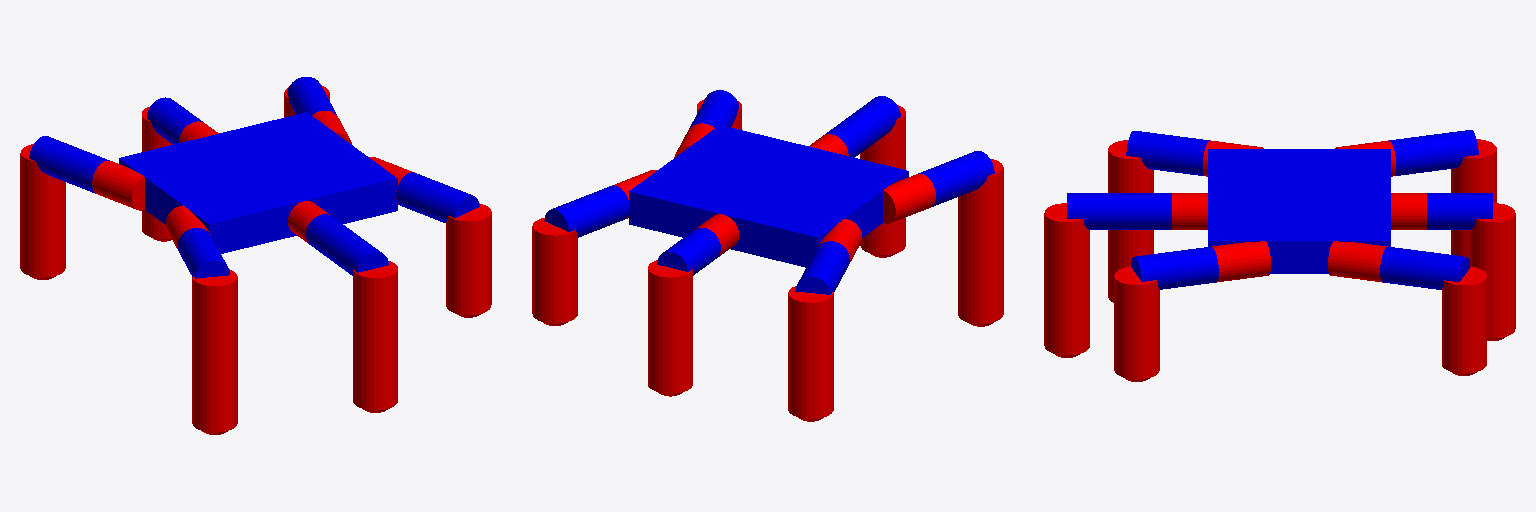
--- Render facts (derived) ---
3 views of the same robot in one strip: view 1: azimuth 30°, elevation 25°; view 2: azimuth 150°, elevation 25°; view 3: azimuth 270°, elevation 25° (orthographic).
Robot: pexod — 19 links, 18 joints (18 revolute); root link base_link; default pose: every joint at zero.
Links seen in each view (by area): view 1: base_link, leg_5_3, leg_4_3, leg_0_3, leg_3_3, leg_4_2, leg_3_2, leg_0_2, leg_0_1, leg_5_2, leg_1_2, leg_2_2 (+3 smaller); view 2: base_link, leg_5_3, leg_0_3, leg_1_3, leg_2_3, leg_4_3, leg_2_2, leg_4_2, leg_5_2, leg_0_2, leg_5_1, leg_1_2 (+3 smaller); view 3: base_link, leg_4_3, leg_3_3, leg_1_3, leg_2_3, leg_4_2, leg_5_3, leg_2_2, leg_0_2, leg_3_2, leg_5_2, leg_0_3 (+5 smaller).
Link boxes in pixels (box(x1,y1,x2,y2)): base_link: box(119, 112, 397, 253); leg_5_3: box(192, 269, 237, 434); leg_4_3: box(353, 261, 397, 412); leg_0_3: box(20, 144, 65, 279); leg_3_3: box(446, 203, 491, 317); leg_4_2: box(306, 214, 388, 275); leg_3_2: box(396, 172, 479, 222); leg_0_2: box(29, 136, 109, 193); leg_0_1: box(92, 161, 144, 210); leg_5_2: box(178, 228, 229, 278); leg_1_2: box(147, 97, 202, 144); leg_2_2: box(287, 77, 336, 114); base_link: box(629, 125, 908, 267); leg_5_3: box(958, 159, 1003, 326); leg_0_3: box(788, 286, 833, 421); leg_1_3: box(648, 260, 692, 396); leg_2_3: box(532, 218, 577, 325); leg_4_3: box(860, 105, 905, 257); leg_2_2: box(544, 185, 629, 237); leg_4_2: box(823, 96, 900, 157); leg_5_2: box(918, 151, 994, 206); leg_0_2: box(795, 241, 849, 294); leg_5_1: box(883, 174, 935, 223); leg_1_2: box(657, 228, 720, 275); base_link: box(1208, 149, 1390, 273); leg_4_3: box(1044, 203, 1089, 357); leg_3_3: box(1114, 266, 1159, 381); leg_1_3: box(1470, 203, 1515, 340); leg_2_3: box(1442, 267, 1486, 375); leg_4_2: box(1067, 193, 1171, 229); leg_5_3: box(1108, 140, 1153, 302); leg_2_2: box(1380, 247, 1469, 289); leg_0_2: box(1389, 130, 1478, 175); leg_3_2: box(1131, 246, 1218, 289); leg_5_2: box(1126, 131, 1209, 175); leg_0_3: box(1451, 139, 1496, 259).
Bounding box of the posed robot: 0.3802 × 0.517 × 0.2109 m (x, y, z).
Geometry: primitives only (box / cylinder / sphere), no mesh files.

robot.urdf — pexod:
<?xml version="1.0" ?>
<!-- =================================================================================== -->
<!-- |    This document was autogenerated by xacro from pexod.xacro                    | -->
<!-- |    EDITING THIS FILE BY HAND IS NOT RECOMMENDED                                 | -->
<!-- =================================================================================== -->
<robot name="pexod" xmlns:xacro="http://www.ros.org/wiki/xacro">
  <!-- <xacro:include filename="$(find pexod_description)/urdf/pexod_control.xacro" /> -->
  <!-- MATERIALS -->
  <material name="Blue">
    <color rgba="0 0 1 1"/>
  </material>
  <material name="Red">
    <color rgba="1 0 0 1"/>
  </material>
  <material name="Green">
    <color rgba="0 1 0 1"/>
  </material>
  <material name="Yellow">
    <color rgba="1 1 0 1"/>
  </material>
  <material name="LightGrey">
    <color rgba="0.6 0.6 0.6 1.0"/>
  </material>
  <!-- END OF MATERIALS -->
  <!-- XACRO MACROS FOR VISUALS AND COLLISIONS -->
  <!-- END OF XACRO MACROS -->
  <!-- TORSO -->
  <link name="base_link">
    <visual>
      <origin rpy="0 0 0" xyz="0 0 0"/>
      <geometry>
        <box size="0.24 0.2 0.04"/>
      </geometry>
      <material name="Blue"/>
    </visual>
    <collision>
      <origin rpy="0 0 0" xyz="0 0 0"/>
      <geometry>
        <box size="0.24 0.2 0.04"/>
      </geometry>
    </collision>
    <inertial>
      <!-- CENTER OF MASS -->
      <origin rpy="0 0 0" xyz="0 0 0"/>
      <mass value="1.031"/>
      <!-- box inertia: 1/12*m(y^2+z^2), ... -->
      <inertia ixx="0.00357413333333" ixy="0" ixz="0" iyy="0.00508626666667" iyz="0" izz="0.00838546666667"/>
    </inertial>
  </link>
  <!-- XACRO MACRO FOR LEGS LINKS/JOINTS -->
  <!-- END OF LEG LINKS/JOINTS -->
  <joint name="body_leg_2" type="revolute">
    <parent link="base_link"/>
    <child link="leg_2_1"/>
    <limit effort="30.0" lower="-1.57079632679" upper="1.57079632679" velocity="7.0"/>
    <origin rpy="0 0 -0.3" xyz="0.11 0.04 0"/>
    <!-- <xacro:if value="${index == 5 or index == 4 or index == 3}">
                <axis xyz="0 0 1"/>
            </xacro:if>
            <xacro:if value="${index == 2 or index == 1 or index == 0}"> -->
    <axis xyz="0 0 1"/>
    <!-- </xacro:if> -->
    <dynamics damping="0.0"/>
  </joint>
  <link name="leg_2_1">
    <visual>
      <origin rpy="1.57079632679 0 0" xyz="0.01 0.03 0"/>
      <geometry>
        <cylinder length="0.06" radius="0.02"/>
      </geometry>
      <material name="Red"/>
    </visual>
    <collision>
      <origin rpy="1.57079632679 0 0" xyz="0.01 0.03 0"/>
      <geometry>
        <box size="0.02 0.02 0.06"/>
      </geometry>
    </collision>
    <inertial>
      <!-- CENTER OF MASS -->
      <origin rpy="1.57079632679 0 0" xyz="0.01 0.03 0"/>
      <mass value="0.02"/>
      <!-- box inertia: 1/12*m(y^2+z^2), ... -->
      <inertia ixx="6.66666666667e-06" ixy="0" ixz="0" iyy="6.66666666667e-06" iyz="0" izz="1.33333333333e-06"/>
    </inertial>
  </link>
  <joint name="leg_2_1_2" type="revolute">
    <parent link="leg_2_1"/>
    <child link="leg_2_2"/>
    <limit effort="30.0" lower="-0.78539816339" upper="0.78539816339" velocity="7.0"/>
    <origin rpy="0 0 0" xyz="0 0.06 0"/>
    <axis xyz="1 0 0"/>
    <dynamics damping="0.0"/>
  </joint>
  <link name="leg_2_2">
    <visual>
      <origin rpy="1.57079632679 0 0" xyz="0.01 0.045675434795 0"/>
      <geometry>
        <cylinder length="0.0913508695899" radius="0.02"/>
      </geometry>
      <material name="Blue"/>
    </visual>
    <collision>
      <origin rpy="1.57079632679 0 0" xyz="0.01 0.045675434795 0"/>
      <geometry>
        <box size="0.02 0.02 0.0913508695899"/>
      </geometry>
    </collision>
    <inertial>
      <!-- CENTER OF MASS -->
      <origin rpy="1.57079632679 0 0" xyz="0.01 0.045675434795 0"/>
      <mass value="0.184"/>
      <!-- box inertia: 1/12*m(y^2+z^2), ... -->
      <inertia ixx="0.000134089714414" ixy="0" ixz="0" iyy="0.000134089714414" iyz="0" izz="1.22666666667e-05"/>
    </inertial>
  </link>
  <joint name="leg_2_2_3" type="revolute">
    <parent link="leg_2_2"/>
    <child link="leg_2_3"/>
    <limit effort="30.0" lower="-0.78539816339" upper="0.78539816339" velocity="7.0"/>
    <origin rpy="-1.57079632679 0 0" xyz="0 0.0913508695899 0"/>
    <axis xyz="-1 0 0"/>
    <dynamics damping="0.0"/>
  </joint>
  <link name="leg_2_3">
    <visual>
      <origin rpy="1.57079632679 0 0" xyz="0.0125 0.0533345290635 0"/>
      <geometry>
        <cylinder length="0.106669058127" radius="0.025"/>
      </geometry>
      <material name="Red"/>
    </visual>
    <visual>
      <origin rpy="1.57079632679 0 0" xyz="0.0125 0.094169058127 0"/>
      <geometry>
        <sphere radius="0.025"/>
      </geometry>
      <material name="Red"/>
    </visual>
    <collision>
      <origin rpy="1.57079632679 0 0" xyz="0.0125 0.0533345290635 0"/>
      <geometry>
        <box size="0.025 0.025 0.106669058127"/>
      </geometry>
    </collision>
    <collision>
      <origin rpy="1.57079632679 0 0" xyz="0.0125 0.094169058127 0"/>
      <geometry>
        <sphere radius="0.025"/>
      </geometry>
      <material name="Red"/>
    </collision>
    <inertial>
      <!-- CENTER OF MASS -->
      <origin rpy="1.57079632679 0 0" xyz="0.0125 0.0533345290635 0"/>
      <mass value="0.04"/>
      <!-- box inertia: 1/12*m(y^2+z^2), ... -->
      <inertia ixx="4.00109598723e-05" ixy="0" ixz="0" iyy="4.00109598723e-05" iyz="0" izz="4.16666666667e-06"/>
    </inertial>
  </link>
  <joint name="body_leg_3" type="revolute">
    <parent link="base_link"/>
    <child link="leg_3_1"/>
    <limit effort="30.0" lower="-1.57079632679" upper="1.57079632679" velocity="7.0"/>
    <origin rpy="0 0 0.3" xyz="0.11 -0.04 0"/>
    <!-- <xacro:if value="${index == 5 or index == 4 or index == 3}">
                <axis xyz="0 0 1"/>
            </xacro:if>
            <xacro:if value="${index == 2 or index == 1 or index == 0}"> -->
    <axis xyz="0 0 1"/>
    <!-- </xacro:if> -->
    <dynamics damping="0.0"/>
  </joint>
  <link name="leg_3_1">
    <visual>
      <origin rpy="1.57079632679 0 0" xyz="0.01 -0.03 0"/>
      <geometry>
        <cylinder length="0.06" radius="0.02"/>
      </geometry>
      <material name="Red"/>
    </visual>
    <collision>
      <origin rpy="1.57079632679 0 0" xyz="0.01 -0.03 0"/>
      <geometry>
        <box size="0.02 0.02 0.06"/>
      </geometry>
    </collision>
    <inertial>
      <!-- CENTER OF MASS -->
      <origin rpy="1.57079632679 0 0" xyz="0.01 -0.03 0"/>
      <mass value="0.02"/>
      <!-- box inertia: 1/12*m(y^2+z^2), ... -->
      <inertia ixx="6.66666666667e-06" ixy="0" ixz="0" iyy="6.66666666667e-06" iyz="0" izz="1.33333333333e-06"/>
    </inertial>
  </link>
  <joint name="leg_3_1_2" type="revolute">
    <parent link="leg_3_1"/>
    <child link="leg_3_2"/>
    <limit effort="30.0" lower="-0.78539816339" upper="0.78539816339" velocity="7.0"/>
    <origin rpy="0 0 0" xyz="0 -0.06 0"/>
    <axis xyz="-1 0 0"/>
    <dynamics damping="0.0"/>
  </joint>
  <link name="leg_3_2">
    <visual>
      <origin rpy="1.57079632679 0 0" xyz="0.01 -0.0443012966367 0"/>
      <geometry>
        <cylinder length="0.0886025932734" radius="0.02"/>
      </geometry>
      <material name="Blue"/>
    </visual>
    <collision>
      <origin rpy="1.57079632679 0 0" xyz="0.01 -0.0443012966367 0"/>
      <geometry>
        <box size="0.02 0.02 0.0886025932734"/>
      </geometry>
    </collision>
    <inertial>
      <!-- CENTER OF MASS -->
      <origin rpy="1.57079632679 0 0" xyz="0.01 -0.0443012966367 0"/>
      <mass value="0.184"/>
      <!-- box inertia: 1/12*m(y^2+z^2), ... -->
      <inertia ixx="0.000126506432866" ixy="0" ixz="0" iyy="0.000126506432866" iyz="0" izz="1.22666666667e-05"/>
    </inertial>
  </link>
  <joint name="leg_3_2_3" type="revolute">
    <parent link="leg_3_2"/>
    <child link="leg_3_3"/>
    <limit effort="30.0" lower="-0.78539816339" upper="0.78539816339" velocity="7.0"/>
    <origin rpy="1.57079632679 0 0" xyz="0 -0.0886025932734 0"/>
    <axis xyz="1 0 0"/>
    <dynamics damping="0.0"/>
  </joint>
  <link name="leg_3_3">
    <visual>
      <origin rpy="1.57079632679 0 0" xyz="0.0125 -0.057151200116 0"/>
      <geometry>
        <cylinder length="0.114302400232" radius="0.025"/>
      </geometry>
      <material name="Red"/>
    </visual>
    <visual>
      <origin rpy="1.57079632679 0 0" xyz="0.0125 -0.101802400232 0"/>
      <geometry>
        <sphere radius="0.025"/>
      </geometry>
      <material name="Red"/>
    </visual>
    <collision>
      <origin rpy="1.57079632679 0 0" xyz="0.0125 -0.057151200116 0"/>
      <geometry>
        <box size="0.025 0.025 0.114302400232"/>
      </geometry>
    </collision>
    <collision>
      <origin rpy="1.57079632679 0 0" xyz="0.0125 -0.101802400232 0"/>
      <geometry>
        <sphere radius="0.025"/>
      </geometry>
      <material name="Red"/>
    </collision>
    <inertial>
      <!-- CENTER OF MASS -->
      <origin rpy="1.57079632679 0 0" xyz="0.0125 -0.057151200116 0"/>
      <mass value="0.04"/>
      <!-- box inertia: 1/12*m(y^2+z^2), ... -->
      <inertia ixx="4.56334623293e-05" ixy="0" ixz="0" iyy="4.56334623293e-05" iyz="0" izz="4.16666666667e-06"/>
    </inertial>
  </link>
  <joint name="body_leg_0" type="revolute">
    <parent link="base_link"/>
    <child link="leg_0_1"/>
    <limit effort="30.0" lower="-1.57079632679" upper="1.57079632679" velocity="7.0"/>
    <origin rpy="0 0 0.3" xyz="-0.13 0.04 0"/>
    <!-- <xacro:if value="${index == 5 or index == 4 or index == 3}">
                <axis xyz="0 0 1"/>
            </xacro:if>
            <xacro:if value="${index == 2 or index == 1 or index == 0}"> -->
    <axis xyz="0 0 1"/>
    <!-- </xacro:if> -->
    <dynamics damping="0.0"/>
  </joint>
  <link name="leg_0_1">
    <visual>
      <origin rpy="1.57079632679 0 0" xyz="0.01 0.03 0"/>
      <geometry>
        <cylinder length="0.06" radius="0.02"/>
      </geometry>
      <material name="Red"/>
    </visual>
    <collision>
      <origin rpy="1.57079632679 0 0" xyz="0.01 0.03 0"/>
      <geometry>
        <box size="0.02 0.02 0.06"/>
      </geometry>
    </collision>
    <inertial>
      <!-- CENTER OF MASS -->
      <origin rpy="1.57079632679 0 0" xyz="0.01 0.03 0"/>
      <mass value="0.02"/>
      <!-- box inertia: 1/12*m(y^2+z^2), ... -->
      <inertia ixx="6.66666666667e-06" ixy="0" ixz="0" iyy="6.66666666667e-06" iyz="0" izz="1.33333333333e-06"/>
    </inertial>
  </link>
  <joint name="leg_0_1_2" type="revolute">
    <parent link="leg_0_1"/>
    <child link="leg_0_2"/>
    <limit effort="30.0" lower="-0.78539816339" upper="0.78539816339" velocity="7.0"/>
    <origin rpy="0 0 0" xyz="0 0.06 0"/>
    <axis xyz="1 0 0"/>
    <dynamics damping="0.0"/>
  </joint>
  <link name="leg_0_2">
    <visual>
      <origin rpy="1.57079632679 0 0" xyz="0.01 0.0473555068962 0"/>
      <geometry>
        <cylinder length="0.0947110137924" radius="0.02"/>
      </geometry>
      <material name="Blue"/>
    </visual>
    <collision>
      <origin rpy="1.57079632679 0 0" xyz="0.01 0.0473555068962 0"/>
      <geometry>
        <box size="0.02 0.02 0.0947110137924"/>
      </geometry>
    </collision>
    <inertial>
      <!-- CENTER OF MASS -->
      <origin rpy="1.57079632679 0 0" xyz="0.01 0.0473555068962 0"/>
      <mass value="0.184"/>
      <!-- box inertia: 1/12*m(y^2+z^2), ... -->
      <inertia ixx="0.000143676034048" ixy="0" ixz="0" iyy="0.000143676034048" iyz="0" izz="1.22666666667e-05"/>
    </inertial>
  </link>
  <joint name="leg_0_2_3" type="revolute">
    <parent link="leg_0_2"/>
    <child link="leg_0_3"/>
    <limit effort="30.0" lower="-0.78539816339" upper="0.78539816339" velocity="7.0"/>
    <origin rpy="-1.57079632679 0 0" xyz="0 0.0947110137924 0"/>
    <axis xyz="-1 0 0"/>
    <dynamics damping="0.0"/>
  </joint>
  <link name="leg_0_3">
    <visual>
      <origin rpy="1.57079632679 0 0" xyz="0.0125 0.070501041322 0"/>
      <geometry>
        <cylinder length="0.141002082644" radius="0.025"/>
      </geometry>
      <material name="Red"/>
    </visual>
    <visual>
      <origin rpy="1.57079632679 0 0" xyz="0.0125 0.128502082644 0"/>
      <geometry>
        <sphere radius="0.025"/>
      </geometry>
      <material name="Red"/>
    </visual>
    <collision>
      <origin rpy="1.57079632679 0 0" xyz="0.0125 0.070501041322 0"/>
      <geometry>
        <box size="0.025 0.025 0.141002082644"/>
      </geometry>
    </collision>
    <collision>
      <origin rpy="1.57079632679 0 0" xyz="0.0125 0.128502082644 0"/>
      <geometry>
        <sphere radius="0.025"/>
      </geometry>
      <material name="Red"/>
    </collision>
    <inertial>
      <!-- CENTER OF MASS -->
      <origin rpy="1.57079632679 0 0" xyz="0.0125 0.070501041322 0"/>
      <mass value="0.04"/>
      <!-- box inertia: 1/12*m(y^2+z^2), ... -->
      <inertia ixx="6.83552910332e-05" ixy="0" ixz="0" iyy="6.83552910332e-05" iyz="0" izz="4.16666666667e-06"/>
    </inertial>
  </link>
  <joint name="body_leg_5" type="revolute">
    <parent link="base_link"/>
    <child link="leg_5_1"/>
    <limit effort="30.0" lower="-1.57079632679" upper="1.57079632679" velocity="7.0"/>
    <origin rpy="0 0 -0.3" xyz="-0.13 -0.04 0"/>
    <!-- <xacro:if value="${index == 5 or index == 4 or index == 3}">
                <axis xyz="0 0 1"/>
            </xacro:if>
            <xacro:if value="${index == 2 or index == 1 or index == 0}"> -->
    <axis xyz="0 0 1"/>
    <!-- </xacro:if> -->
    <dynamics damping="0.0"/>
  </joint>
  <link name="leg_5_1">
    <visual>
      <origin rpy="1.57079632679 0 0" xyz="0.01 -0.03 0"/>
      <geometry>
        <cylinder length="0.06" radius="0.02"/>
      </geometry>
      <material name="Red"/>
    </visual>
    <collision>
      <origin rpy="1.57079632679 0 0" xyz="0.01 -0.03 0"/>
      <geometry>
        <box size="0.02 0.02 0.06"/>
      </geometry>
    </collision>
    <inertial>
      <!-- CENTER OF MASS -->
      <origin rpy="1.57079632679 0 0" xyz="0.01 -0.03 0"/>
      <mass value="0.02"/>
      <!-- box inertia: 1/12*m(y^2+z^2), ... -->
      <inertia ixx="6.66666666667e-06" ixy="0" ixz="0" iyy="6.66666666667e-06" iyz="0" izz="1.33333333333e-06"/>
    </inertial>
  </link>
  <joint name="leg_5_1_2" type="revolute">
    <parent link="leg_5_1"/>
    <child link="leg_5_2"/>
    <limit effort="30.0" lower="-0.78539816339" upper="0.78539816339" velocity="7.0"/>
    <origin rpy="0 0 0" xyz="0 -0.06 0"/>
    <axis xyz="-1 0 0"/>
    <dynamics damping="0.0"/>
  </joint>
  <link name="leg_5_2">
    <visual>
      <origin rpy="1.57079632679 0 0" xyz="0.01 -0.0438942045047 0"/>
      <geometry>
        <cylinder length="0.0877884090094" radius="0.02"/>
      </geometry>
      <material name="Blue"/>
    </visual>
    <collision>
      <origin rpy="1.57079632679 0 0" xyz="0.01 -0.0438942045047 0"/>
      <geometry>
        <box size="0.02 0.02 0.0877884090094"/>
      </geometry>
    </collision>
    <inertial>
      <!-- CENTER OF MASS -->
      <origin rpy="1.57079632679 0 0" xyz="0.01 -0.0438942045047 0"/>
      <mass value="0.184"/>
      <!-- box inertia: 1/12*m(y^2+z^2), ... -->
      <inertia ixx="0.000124304339598" ixy="0" ixz="0" iyy="0.000124304339598" iyz="0" izz="1.22666666667e-05"/>
    </inertial>
  </link>
  <joint name="leg_5_2_3" type="revolute">
    <parent link="leg_5_2"/>
    <child link="leg_5_3"/>
    <limit effort="30.0" lower="-0.78539816339" upper="0.78539816339" velocity="7.0"/>
    <origin rpy="1.57079632679 0 0" xyz="0 -0.0877884090094 0"/>
    <axis xyz="1 0 0"/>
    <dynamics damping="0.0"/>
  </joint>
  <link name="leg_5_3">
    <visual>
      <origin rpy="1.57079632679 0 0" xyz="0.0125 -0.0891869146165 0"/>
      <geometry>
        <cylinder length="0.178373829233" radius="0.025"/>
      </geometry>
      <material name="Red"/>
    </visual>
    <visual>
      <origin rpy="1.57079632679 0 0" xyz="0.0125 -0.165873829233 0"/>
      <geometry>
        <sphere radius="0.025"/>
      </geometry>
      <material name="Red"/>
    </visual>
    <collision>
      <origin rpy="1.57079632679 0 0" xyz="0.0125 -0.0891869146165 0"/>
      <geometry>
        <box size="0.025 0.025 0.178373829233"/>
      </geometry>
    </collision>
    <collision>
      <origin rpy="1.57079632679 0 0" xyz="0.0125 -0.165873829233 0"/>
      <geometry>
        <sphere radius="0.025"/>
      </geometry>
      <material name="Red"/>
    </collision>
    <inertial>
      <!-- CENTER OF MASS -->
      <origin rpy="1.57079632679 0 0" xyz="0.0125 -0.0891869146165 0"/>
      <mass value="0.04"/>
      <!-- box inertia: 1/12*m(y^2+z^2), ... -->
      <inertia ixx="0.000108140743184" ixy="0" ixz="0" iyy="0.000108140743184" iyz="0" izz="4.16666666667e-06"/>
    </inertial>
  </link>
  <joint name="body_leg_1" type="revolute">
    <parent link="base_link"/>
    <child link="leg_1_1"/>
    <limit effort="30.0" lower="-1.57079632679" upper="1.57079632679" velocity="7.0"/>
    <origin rpy="0 0 0" xyz="-0.01 0.08 0"/>
    <!-- <xacro:if value="${index == 5 or index == 4 or index == 3}">
                <axis xyz="0 0 1"/>
            </xacro:if>
            <xacro:if value="${index == 2 or index == 1 or index == 0}"> -->
    <axis xyz="0 0 1"/>
    <!-- </xacro:if> -->
    <dynamics damping="0.0"/>
  </joint>
  <link name="leg_1_1">
    <visual>
      <origin rpy="1.57079632679 0 0" xyz="0.01 0.03 0"/>
      <geometry>
        <cylinder length="0.06" radius="0.02"/>
      </geometry>
      <material name="Red"/>
    </visual>
    <collision>
      <origin rpy="1.57079632679 0 0" xyz="0.01 0.03 0"/>
      <geometry>
        <box size="0.02 0.02 0.06"/>
      </geometry>
    </collision>
    <inertial>
      <!-- CENTER OF MASS -->
      <origin rpy="1.57079632679 0 0" xyz="0.01 0.03 0"/>
      <mass value="0.02"/>
      <!-- box inertia: 1/12*m(y^2+z^2), ... -->
      <inertia ixx="6.66666666667e-06" ixy="0" ixz="0" iyy="6.66666666667e-06" iyz="0" izz="1.33333333333e-06"/>
    </inertial>
  </link>
  <joint name="leg_1_1_2" type="revolute">
    <parent link="leg_1_1"/>
    <child link="leg_1_2"/>
    <limit effort="30.0" lower="-0.78539816339" upper="0.78539816339" velocity="7.0"/>
    <origin rpy="0 0 0" xyz="0 0.06 0"/>
    <axis xyz="1 0 0"/>
    <dynamics damping="0.0"/>
  </joint>
  <link name="leg_1_2">
    <visual>
      <origin rpy="1.57079632679 0 0" xyz="0.01 0.0360324965887 0"/>
      <geometry>
        <cylinder length="0.0720649931773" radius="0.02"/>
      </geometry>
      <material name="Blue"/>
    </visual>
    <collision>
      <origin rpy="1.57079632679 0 0" xyz="0.01 0.0360324965887 0"/>
      <geometry>
        <box size="0.02 0.02 0.0720649931773"/>
      </geometry>
    </collision>
    <inertial>
      <!-- CENTER OF MASS -->
      <origin rpy="1.57079632679 0 0" xyz="0.01 0.0360324965887 0"/>
      <mass value="0.184"/>
      <!-- box inertia: 1/12*m(y^2+z^2), ... -->
      <inertia ixx="8.57649030385e-05" ixy="0" ixz="0" iyy="8.57649030385e-05" iyz="0" izz="1.22666666667e-05"/>
    </inertial>
  </link>
  <joint name="leg_1_2_3" type="revolute">
    <parent link="leg_1_2"/>
    <child link="leg_1_3"/>
    <limit effort="30.0" lower="-0.78539816339" upper="0.78539816339" velocity="7.0"/>
    <origin rpy="-1.57079632679 0 0" xyz="0 0.0720649931773 0"/>
    <axis xyz="-1 0 0"/>
    <dynamics damping="0.0"/>
  </joint>
  <link name="leg_1_3">
    <visual>
      <origin rpy="1.57079632679 0 0" xyz="0.0125 0.0704041997135 0"/>
      <geometry>
        <cylinder length="0.140808399427" radius="0.025"/>
      </geometry>
      <material name="Red"/>
    </visual>
    <visual>
      <origin rpy="1.57079632679 0 0" xyz="0.0125 0.128308399427 0"/>
      <geometry>
        <sphere radius="0.025"/>
      </geometry>
      <material name="Red"/>
    </visual>
    <collision>
      <origin rpy="1.57079632679 0 0" xyz="0.0125 0.0704041997135 0"/>
      <geometry>
        <box size="0.025 0.025 0.140808399427"/>
      </geometry>
    </collision>
    <collision>
      <origin rpy="1.57079632679 0 0" xyz="0.0125 0.128308399427 0"/>
      <geometry>
        <sphere radius="0.025"/>
      </geometry>
      <material name="Red"/>
    </collision>
    <inertial>
      <!-- CENTER OF MASS -->
      <origin rpy="1.57079632679 0 0" xyz="0.0125 0.0704041997135 0"/>
      <mass value="0.04"/>
      <!-- box inertia: 1/12*m(y^2+z^2), ... -->
      <inertia ixx="6.8173351164e-05" ixy="0" ixz="0" iyy="6.8173351164e-05" iyz="0" izz="4.16666666667e-06"/>
    </inertial>
  </link>
  <joint name="body_leg_4" type="revolute">
    <parent link="base_link"/>
    <child link="leg_4_1"/>
    <limit effort="30.0" lower="-1.57079632679" upper="1.57079632679" velocity="7.0"/>
    <origin rpy="0 0 0" xyz="-0.01 -0.08 0"/>
    <!-- <xacro:if value="${index == 5 or index == 4 or index == 3}">
                <axis xyz="0 0 1"/>
            </xacro:if>
            <xacro:if value="${index == 2 or index == 1 or index == 0}"> -->
    <axis xyz="0 0 1"/>
    <!-- </xacro:if> -->
    <dynamics damping="0.0"/>
  </joint>
  <link name="leg_4_1">
    <visual>
      <origin rpy="1.57079632679 0 0" xyz="0.01 -0.03 0"/>
      <geometry>
        <cylinder length="0.06" radius="0.02"/>
      </geometry>
      <material name="Red"/>
    </visual>
    <collision>
      <origin rpy="1.57079632679 0 0" xyz="0.01 -0.03 0"/>
      <geometry>
        <box size="0.02 0.02 0.06"/>
      </geometry>
    </collision>
    <inertial>
      <!-- CENTER OF MASS -->
      <origin rpy="1.57079632679 0 0" xyz="0.01 -0.03 0"/>
      <mass value="0.02"/>
      <!-- box inertia: 1/12*m(y^2+z^2), ... -->
      <inertia ixx="6.66666666667e-06" ixy="0" ixz="0" iyy="6.66666666667e-06" iyz="0" izz="1.33333333333e-06"/>
    </inertial>
  </link>
  <joint name="leg_4_1_2" type="revolute">
    <parent link="leg_4_1"/>
    <child link="leg_4_2"/>
    <limit effort="30.0" lower="-0.78539816339" upper="0.78539816339" velocity="7.0"/>
    <origin rpy="0 0 0" xyz="0 -0.06 0"/>
    <axis xyz="-1 0 0"/>
    <dynamics damping="0.0"/>
  </joint>
  <link name="leg_4_2">
    <visual>
      <origin rpy="1.57079632679 0 0" xyz="0.01 -0.057472820102 0"/>
      <geometry>
        <cylinder length="0.114945640204" radius="0.02"/>
      </geometry>
      <material name="Blue"/>
    </visual>
    <collision>
      <origin rpy="1.57079632679 0 0" xyz="0.01 -0.057472820102 0"/>
      <geometry>
        <box size="0.02 0.02 0.114945640204"/>
      </geometry>
    </collision>
    <inertial>
      <!-- CENTER OF MASS -->
      <origin rpy="1.57079632679 0 0" xyz="0.01 -0.057472820102 0"/>
      <mass value="0.184"/>
      <!-- box inertia: 1/12*m(y^2+z^2), ... -->
      <inertia ixx="0.000208725003096" ixy="0" ixz="0" iyy="0.000208725003096" iyz="0" izz="1.22666666667e-05"/>
    </inertial>
  </link>
  <joint name="leg_4_2_3" type="revolute">
    <parent link="leg_4_2"/>
    <child link="leg_4_3"/>
    <limit effort="30.0" lower="-0.78539816339" upper="0.78539816339" velocity="7.0"/>
    <origin rpy="1.57079632679 0 0" xyz="0 -0.114945640204 0"/>
    <axis xyz="1 0 0"/>
    <dynamics damping="0.0"/>
  </joint>
  <link name="leg_4_3">
    <visual>
      <origin rpy="1.57079632679 0 0" xyz="0.0125 -0.0807176239305 0"/>
      <geometry>
        <cylinder length="0.161435247861" radius="0.025"/>
      </geometry>
      <material name="Red"/>
    </visual>
    <visual>
      <origin rpy="1.57079632679 0 0" xyz="0.0125 -0.148935247861 0"/>
      <geometry>
        <sphere radius="0.025"/>
      </geometry>
      <material name="Red"/>
    </visual>
    <collision>
      <origin rpy="1.57079632679 0 0" xyz="0.0125 -0.0807176239305 0"/>
      <geometry>
        <box size="0.025 0.025 0.161435247861"/>
      </geometry>
    </collision>
    <collision>
      <origin rpy="1.57079632679 0 0" xyz="0.0125 -0.148935247861 0"/>
      <geometry>
        <sphere radius="0.025"/>
      </geometry>
      <material name="Red"/>
    </collision>
    <inertial>
      <!-- CENTER OF MASS -->
      <origin rpy="1.57079632679 0 0" xyz="0.0125 -0.0807176239305 0"/>
      <mass value="0.04"/>
      <!-- box inertia: 1/12*m(y^2+z^2), ... -->
      <inertia ixx="8.89544641731e-05" ixy="0" ixz="0" iyy="8.89544641731e-05" iyz="0" izz="4.16666666667e-06"/>
    </inertial>
  </link>
  <!-- END OF LEG LINKS/JOINTS -->
</robot>
